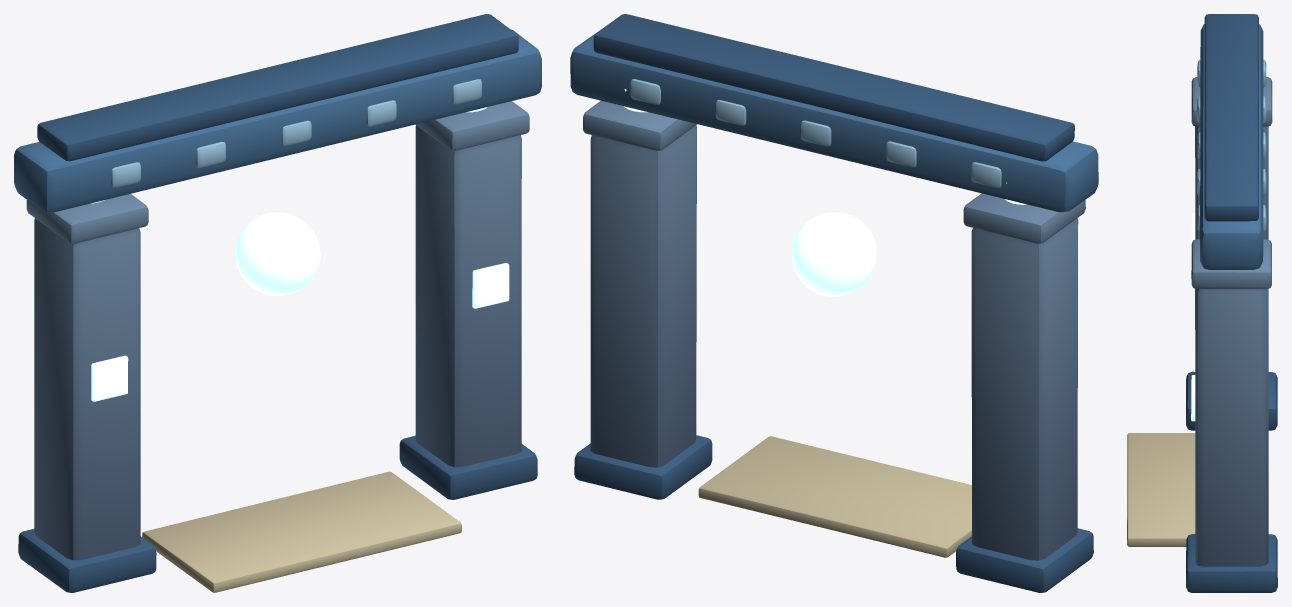
3 views of the same model, side by side, from view 1: azimuth 30°, elevation 25°; view 2: azimuth 150°, elevation 25°; view 3: azimuth 270°, elevation 25° (orthographic). The views are drawn at different scales.
Visible parts, largest first — view 1: gate_94c4c69b; view 2: gate_94c4c69b; view 3: gate_94c4c69b.
Boxes of the visible parts, <box> form: gate_94c4c69b: <box>14,14,541,592</box>; gate_94c4c69b: <box>570,14,1098,592</box>; gate_94c4c69b: <box>1127,14,1277,592</box>.
Bounding box in the file's own units: 4.82 × 4.07 × 1.44.
